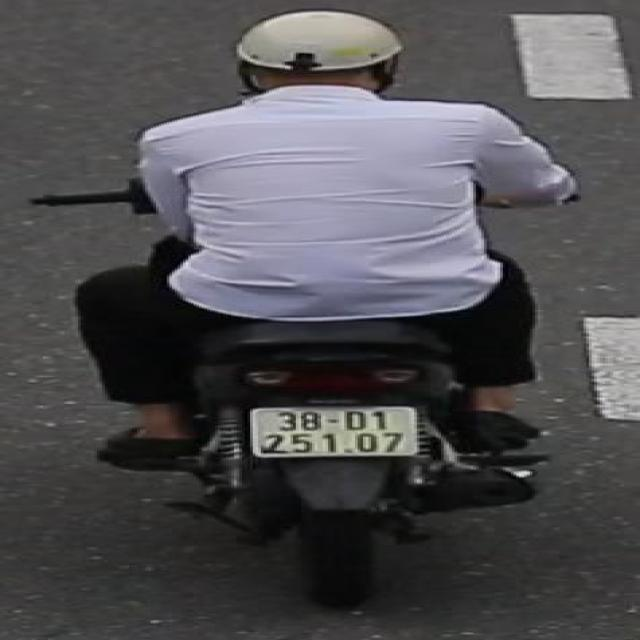LP: (245, 400, 428, 463)
helmet: (228, 8, 416, 116)
